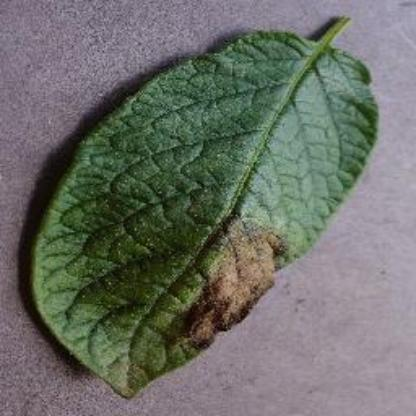Late-Blight: (19, 8, 413, 408)
